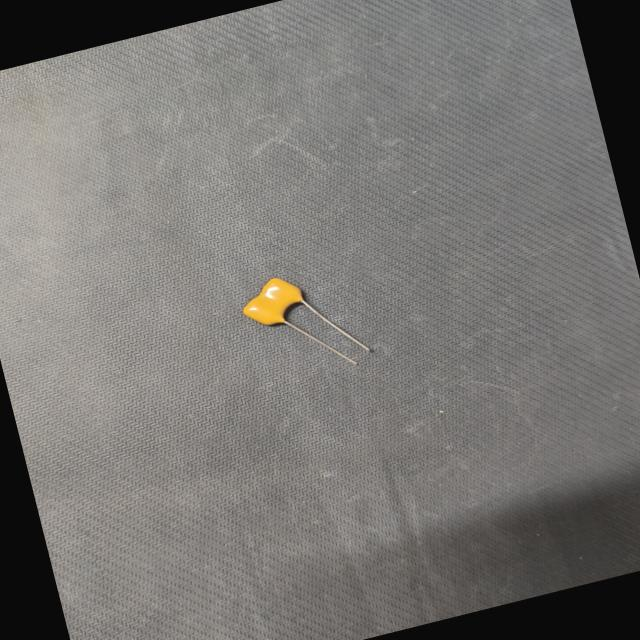resistor: (222, 240, 382, 398)
